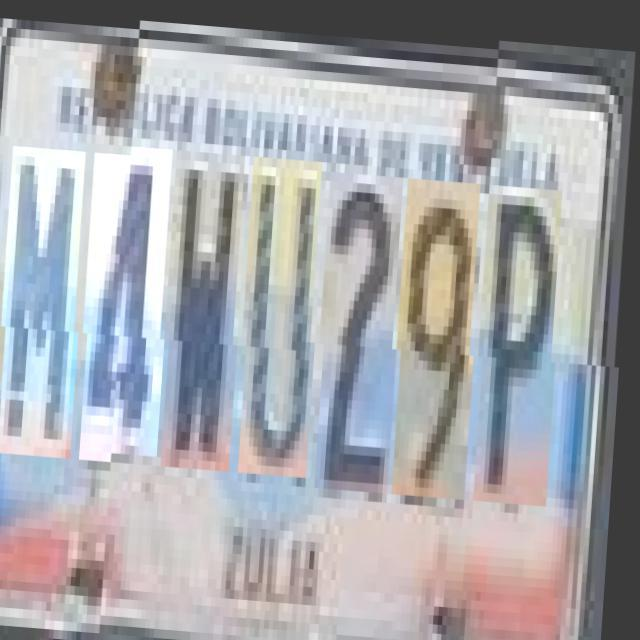2: (321, 166, 410, 486)
4: (86, 142, 179, 454)
9: (398, 172, 487, 492)
M: (4, 137, 93, 448)
P: (479, 185, 568, 506)
U: (244, 152, 329, 472)
W: (166, 148, 252, 468)
